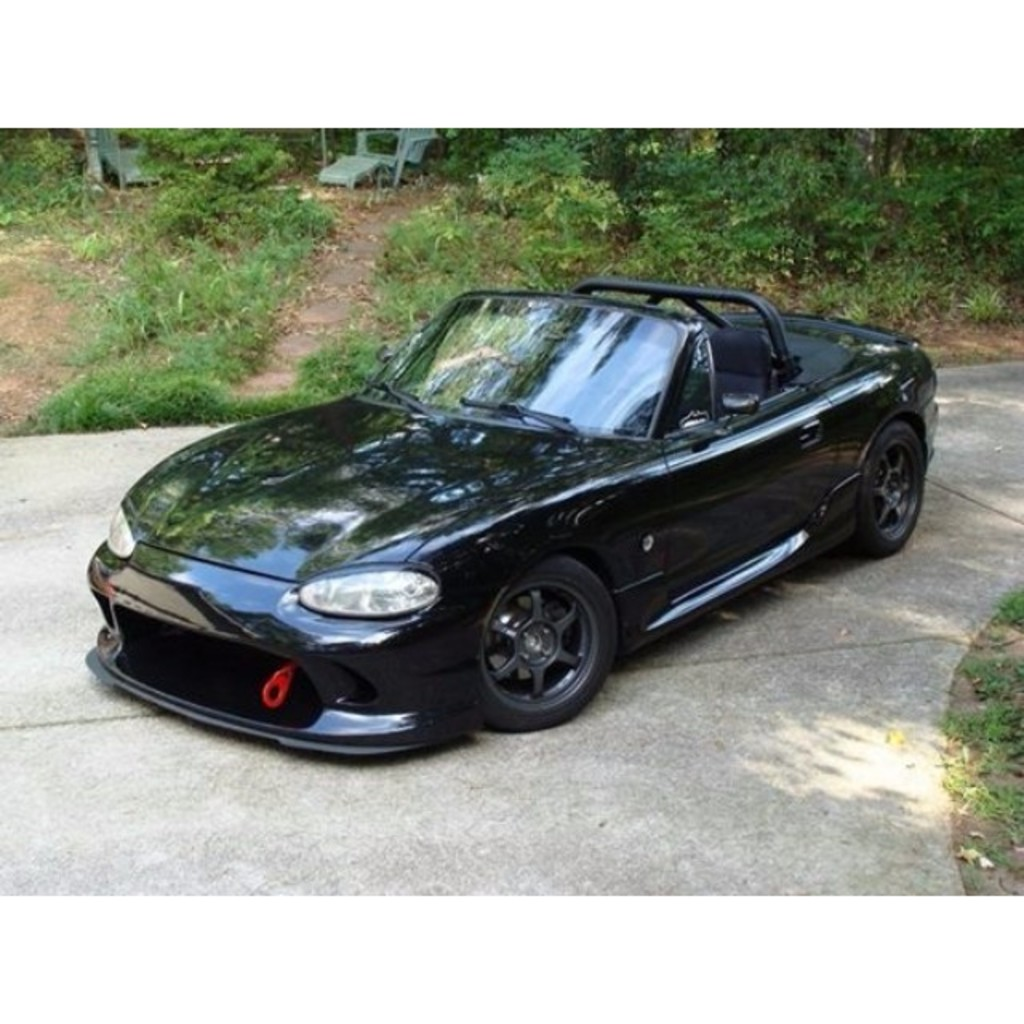Car: (62, 273, 950, 753)
